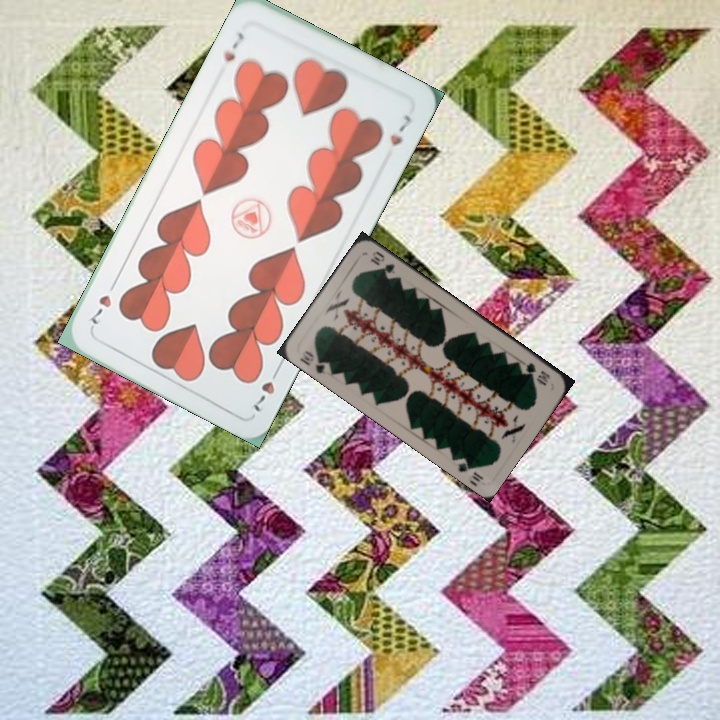G10: (296, 346, 333, 377), (522, 358, 552, 388)
H7: (249, 361, 284, 415), (219, 28, 247, 66)
